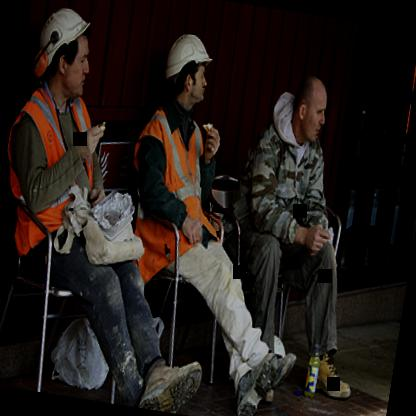head: (286, 74, 334, 148)
helmet: (28, 0, 97, 102), (160, 25, 216, 110)
